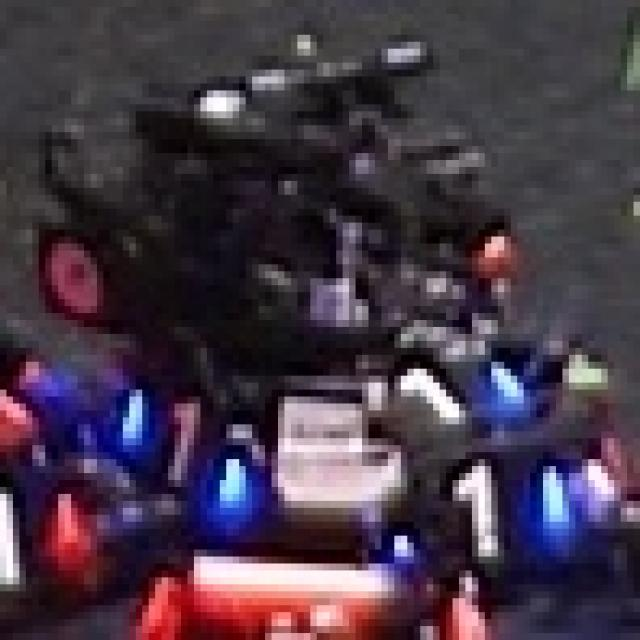B1: (378, 438, 572, 570), (304, 341, 549, 438), (91, 376, 252, 508)
